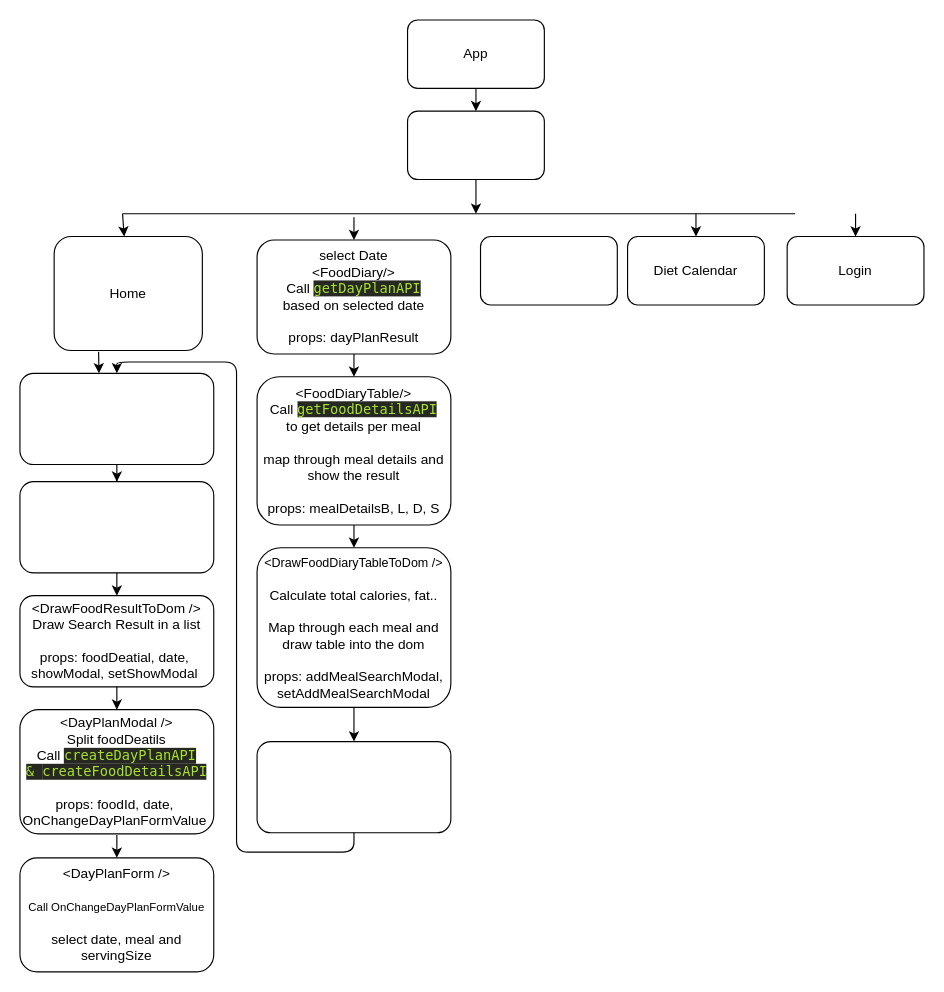
The diagram is 944 pixels wide and 992 high, and some of its shapes have lost their labels. Here are the shapes that lost their labels. From the top down, the centre of each, then its label:
At pixel 475 145: "Nav".
At pixel 548 270: "Weight History".
At pixel 116 418: "search Bar <Search /> Call searchAPI props: searchResult, date".
At pixel 116 527: "<SearchResult /> Map through Search Result props: foodDeatial, foodId, date".
At pixel 353 786: "<SearchModal /> props: date".
